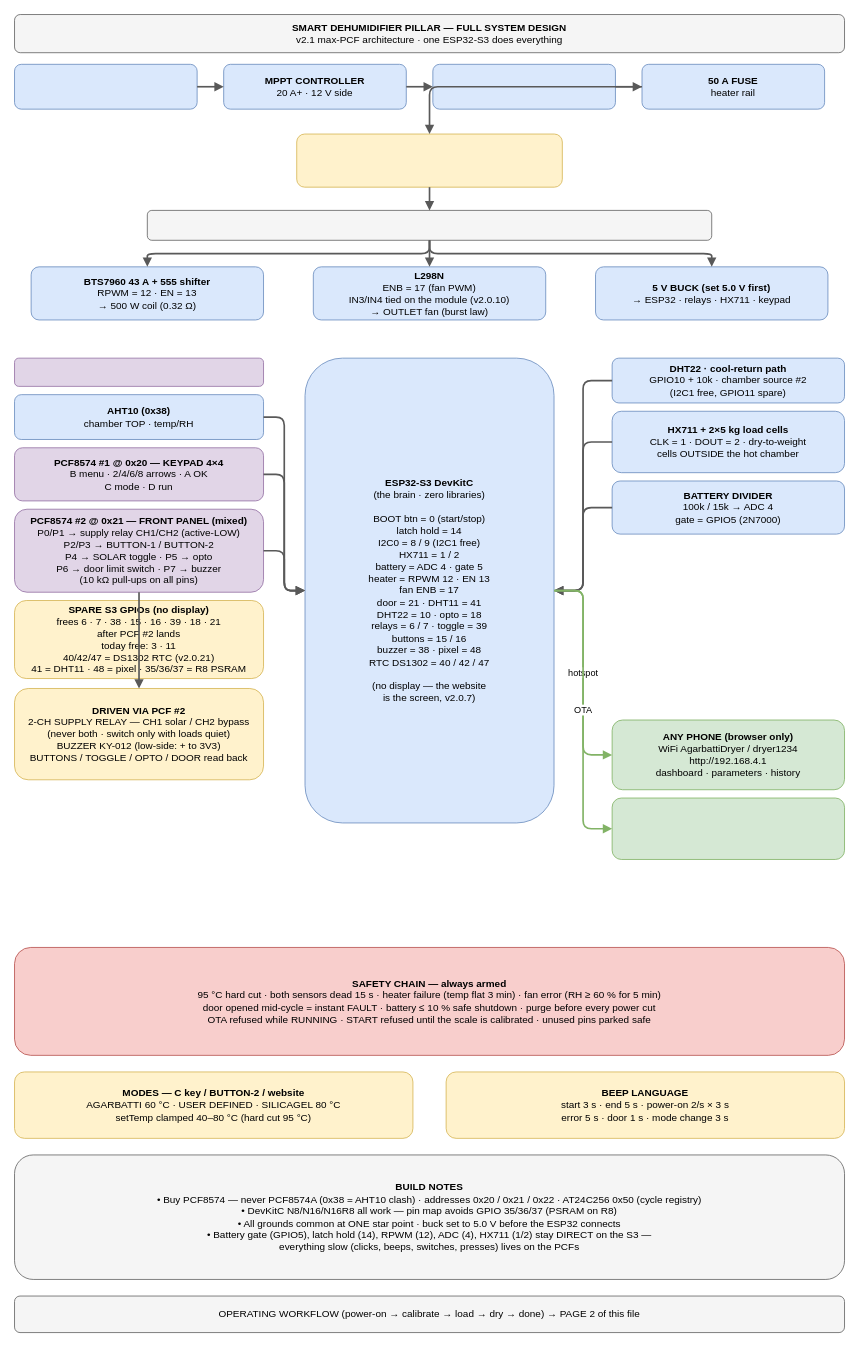
Image size: 859x1347. Some labels were removed from this diagram. Here are the shapes that lost their labels. From the top down, the centre of each, then its label:
the point at 105,86: 550 W SOLAR PANEL 24 V nominal
the point at 523,86: LiFePO4 4S 50–100 Ah BMS ≥ 50 A
the point at 429,160: P-MOSFET LATCH — hard power-off hold = GPIO14 · BUTTON-1: 3 s off / 10 s reboot
the point at 429,225: 12 V POWER BUS
the point at 139,371: I2C0 BUS — GPIO 8 / 9
the point at 728,828: PC — Arduino IDE network OTA: smart-dryer at 192.168.4.1 or USB serial 115200
